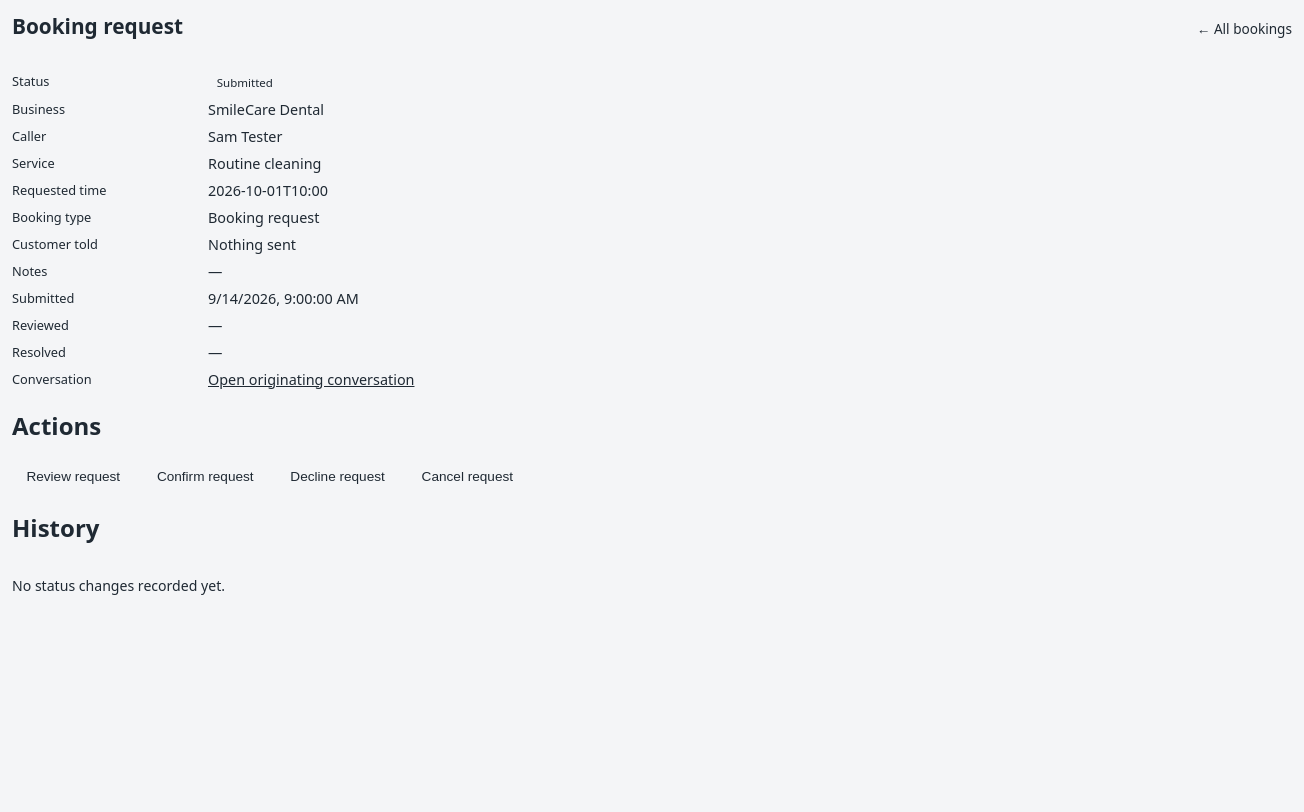
Test: Booking detail › surfaces a server-rejected transition instead of pretending it worked
Click the button "Review request".
click(73, 476)  # box [12,461,134,491]
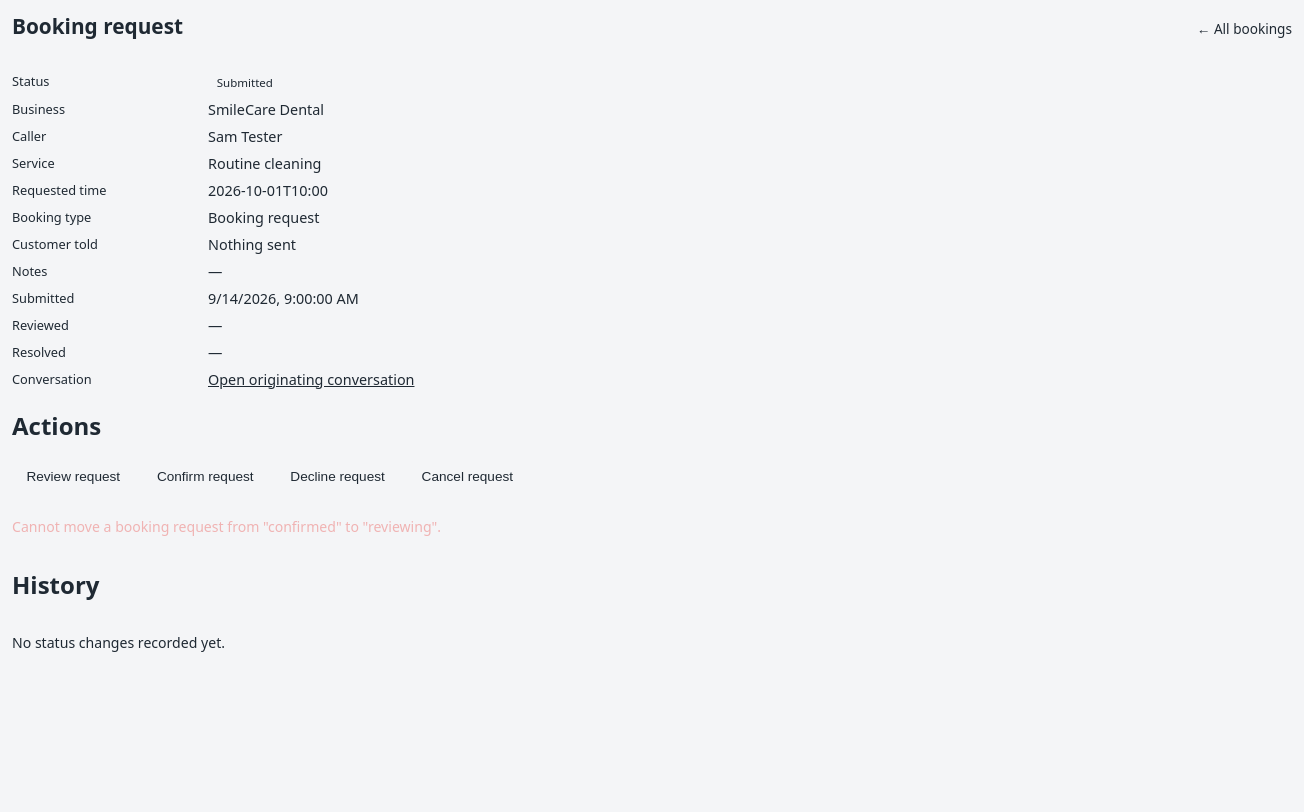
Expected: the text "Cannot move a booking request" is shown, [12,517,441,536]
